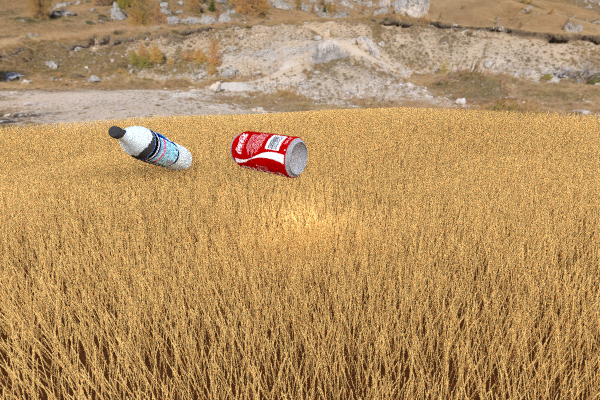Plastic Bottle: (108, 125, 192, 171), (230, 130, 307, 178), (396, 110, 436, 129)
